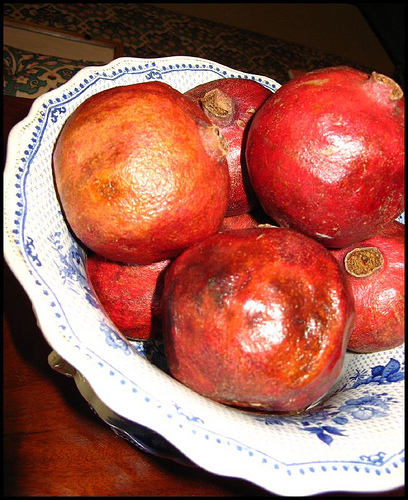pomogranate: (161, 226, 351, 415), (52, 82, 231, 265), (244, 65, 406, 250), (330, 221, 405, 351)
